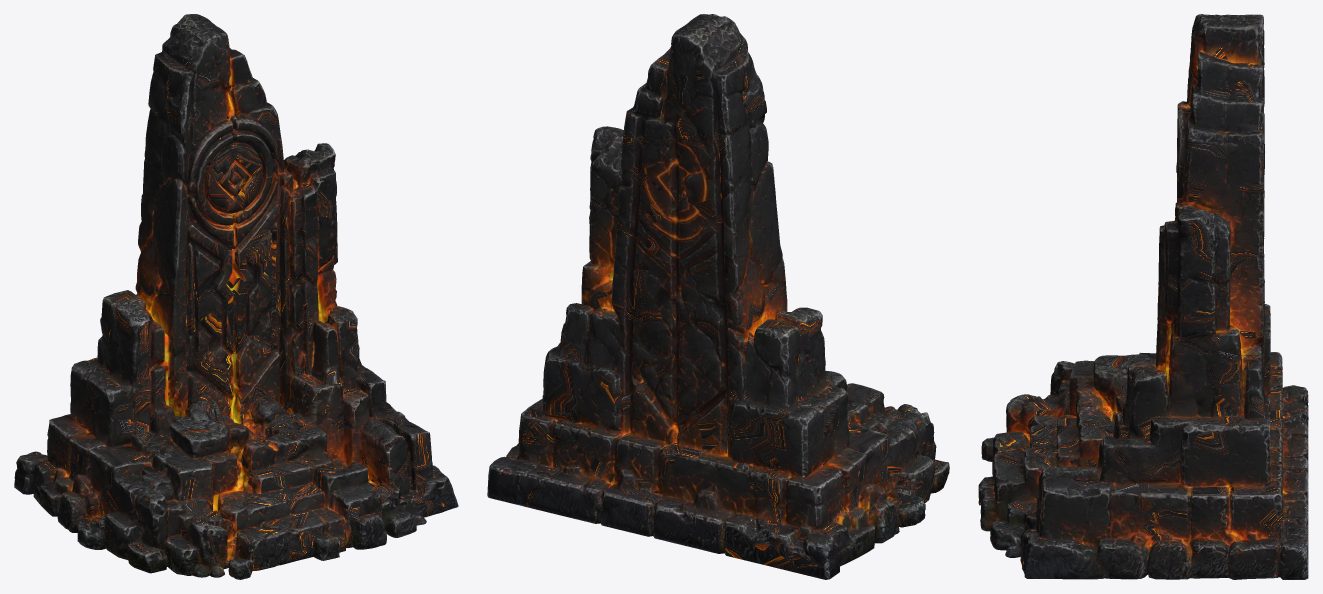
The model's file is Infernal_Peak.glb.
3 renders of one model, left to right at view 1: azimuth 30°, elevation 25°; view 2: azimuth 150°, elevation 25°; view 3: azimuth 270°, elevation 25°, orthographic. The views are drawn at different scales.
Parts seen in each view (by area): view 1: Infernal_Peak; view 2: Infernal_Peak; view 3: Infernal_Peak.
Boxes of the visible parts, x1,y1,x2,y2 form: Infernal_Peak: [14, 14, 458, 579]; Infernal_Peak: [487, 14, 949, 579]; Infernal_Peak: [978, 14, 1308, 579].
Size of the model in its own units: 1.43 by 1.9 by 1.18.
1 material, 1 textured.
